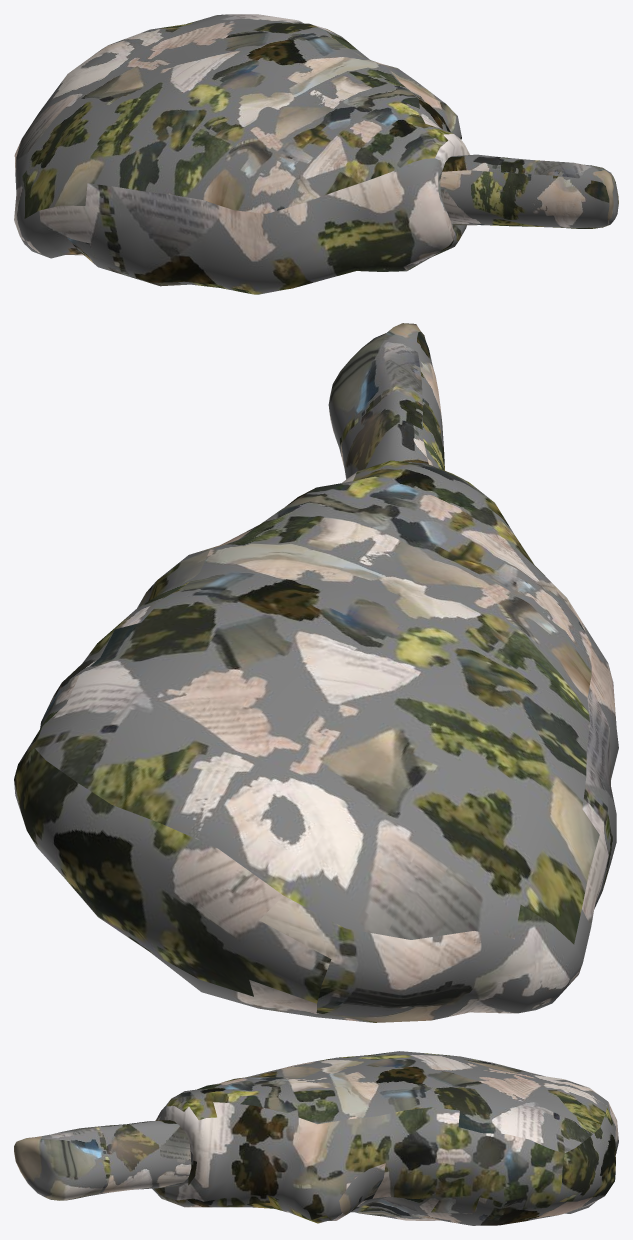
3 renders of one model, top to bottom at view 1: azimuth 30°, elevation 25°; view 2: azimuth 150°, elevation 25°; view 3: azimuth 270°, elevation 25°, orthographic. The views are drawn at different scales.
Size of the model in its own units: 0.662 by 0.3271 by 1.
